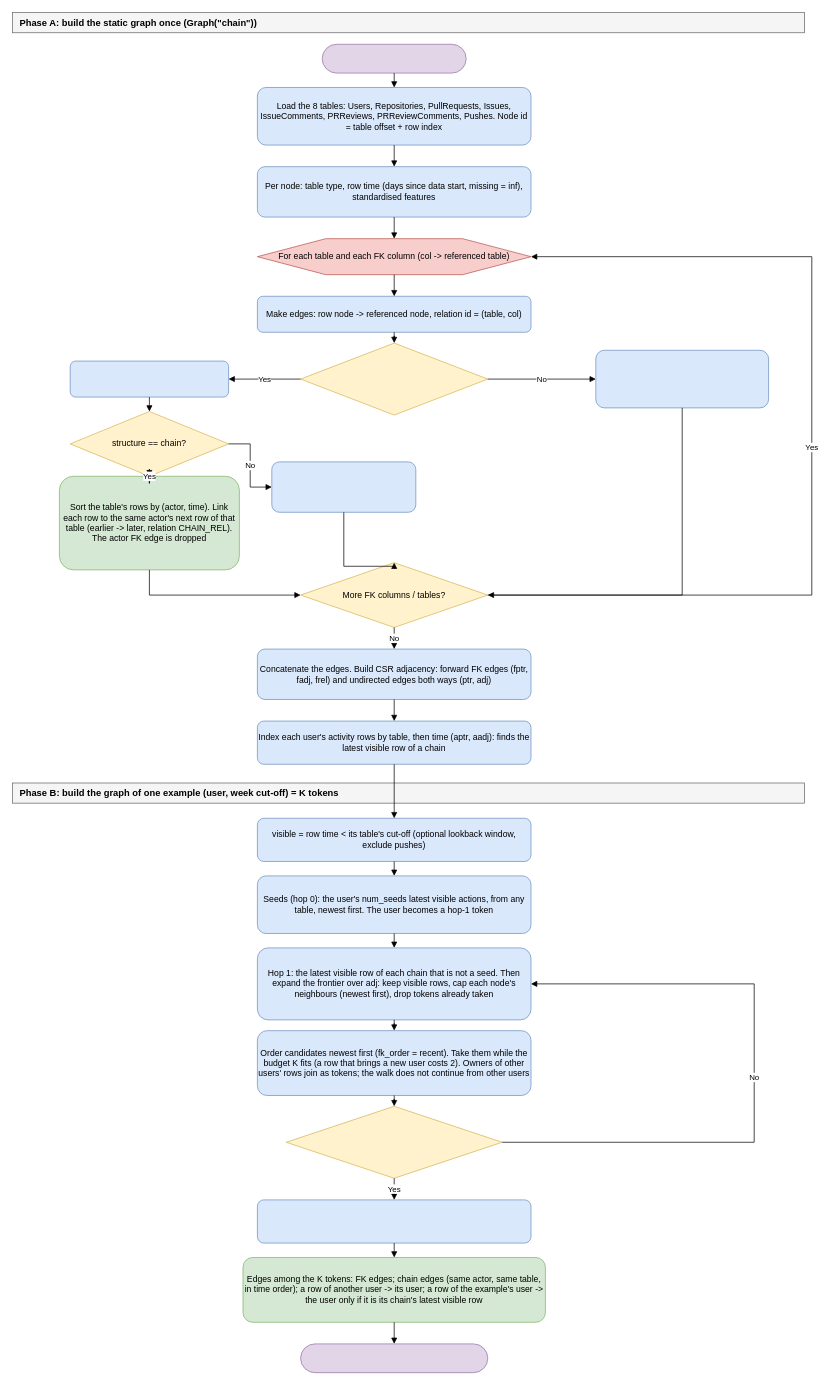
This 831x1385 diagram has some shape labels left out. The shapes that lost their labels are listed below. From the top down, each one's box as (x1, y1, x2, y2) in pixels, then its label:
(321, 44, 466, 73): Start
(69, 360, 229, 397): actor[row] = user node
(300, 342, 488, 415): Is col the actor FK? (author / reviewer / user)
(595, 350, 769, 408): Keep the FK edge as is. If col = repo_id: repo[row] = repository node
(271, 461, 416, 512): Keep the actor FK as a normal edge (plain FK graph)
(285, 1106, 502, 1178): Budget K full, max_hops reached or frontier empty?
(257, 1199, 531, 1243): If short of K: repeat random tokens. If nothing reachable: random visible rows
(300, 1343, 488, 1373): Graph of the example (tokens + edges) goes to RelGT
